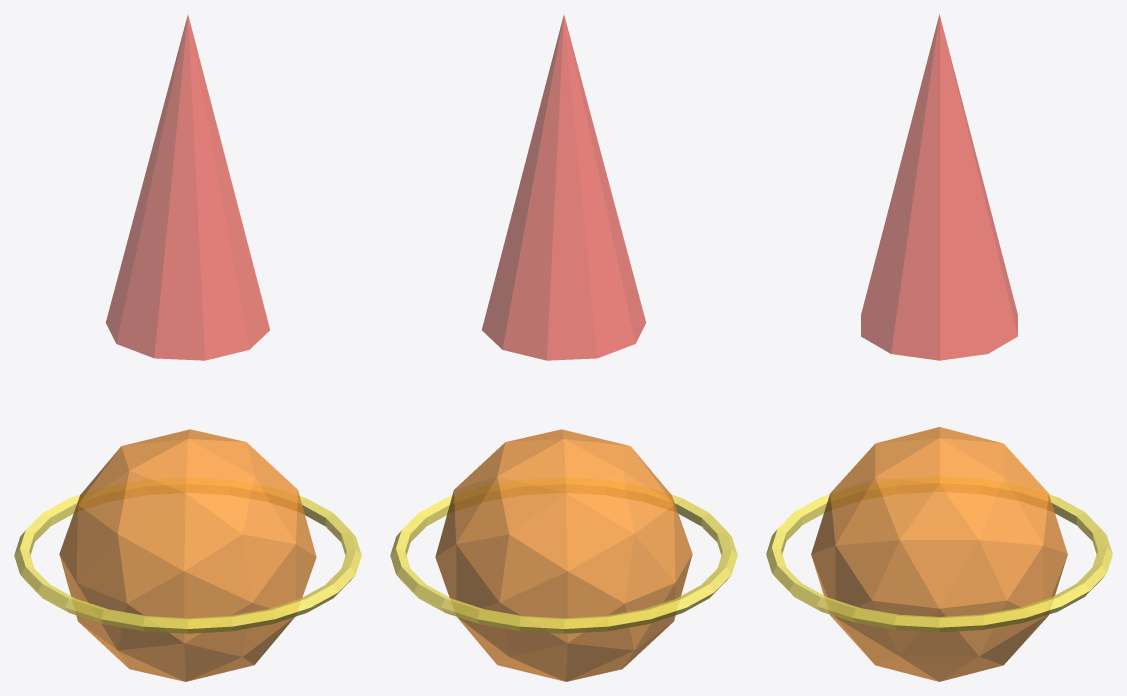
The model's file is vfx_fireball_projectile.glb.
3 renders of one model, left to right at view 1: azimuth 30°, elevation 25°; view 2: azimuth 150°, elevation 25°; view 3: azimuth 270°, elevation 25°, orthographic.
Visible parts, largest first — view 1: core, tail, heat_ring; view 2: core, tail, heat_ring; view 3: core, tail, heat_ring.
Boxes of the visible parts, bbox=[...] form: core: bbox=[59, 429, 316, 681]; tail: bbox=[106, 15, 269, 360]; heat_ring: bbox=[14, 478, 361, 633]; core: bbox=[435, 429, 692, 681]; tail: bbox=[482, 15, 645, 360]; heat_ring: bbox=[390, 478, 737, 633]; core: bbox=[811, 427, 1067, 681]; tail: bbox=[861, 14, 1017, 360]; heat_ring: bbox=[766, 477, 1112, 632].
Size of the model in its own units: 0.756 by 1.58 by 0.756.
